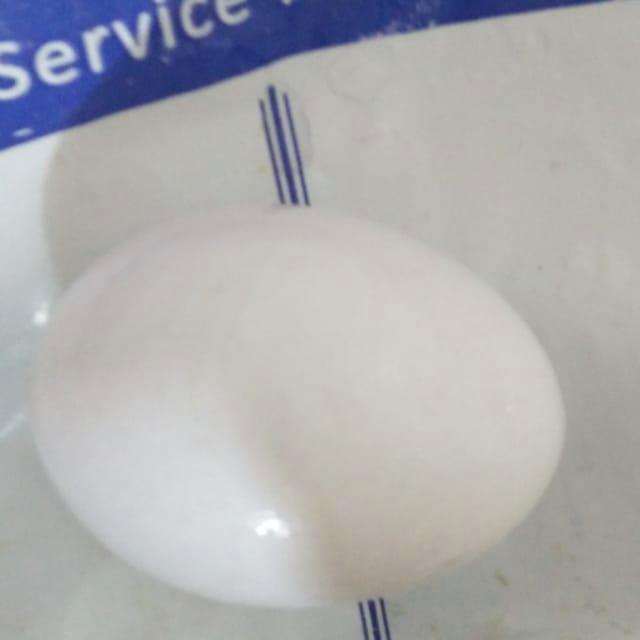egg: (32, 216, 570, 617)
